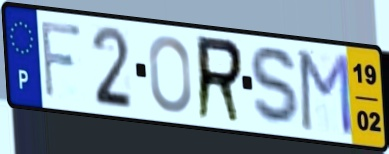2: (89, 24, 134, 114)
F: (38, 17, 84, 102)
M: (298, 48, 355, 139)
O: (146, 33, 194, 115)
R: (195, 33, 246, 127)
S: (248, 44, 305, 130)
